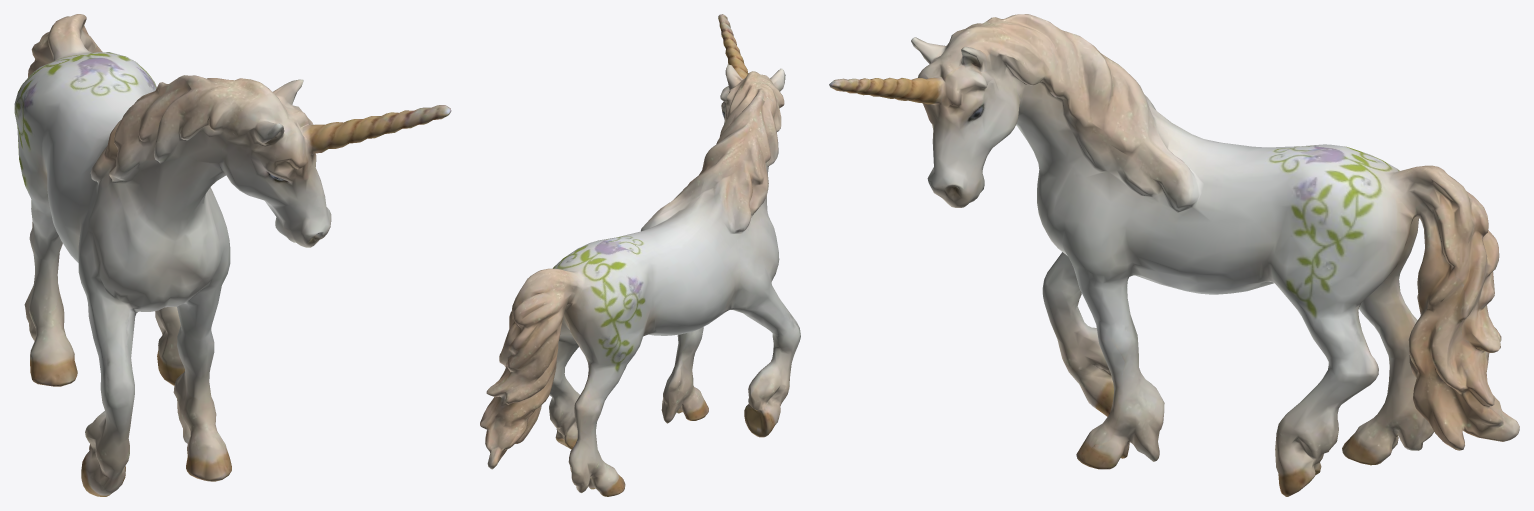
Rendered from unicorn.glb.
3 renders of one model, left to right at view 1: azimuth 30°, elevation 25°; view 2: azimuth 150°, elevation 25°; view 3: azimuth 270°, elevation 25°, orthographic. The views are drawn at different scales.
Parts seen in each view (by area): view 1: Schleich_S_Bayala_Unicorn_70432; view 2: Schleich_S_Bayala_Unicorn_70432; view 3: Schleich_S_Bayala_Unicorn_70432.
Part boxes in pixels (x1,y1,x2,y2): Schleich_S_Bayala_Unicorn_70432: [14, 14, 451, 496]; Schleich_S_Bayala_Unicorn_70432: [480, 14, 800, 496]; Schleich_S_Bayala_Unicorn_70432: [829, 14, 1519, 496].
Bounding box in the file's own units: 0.0547 × 0.1016 × 0.148.
1 material, 1 textured.
